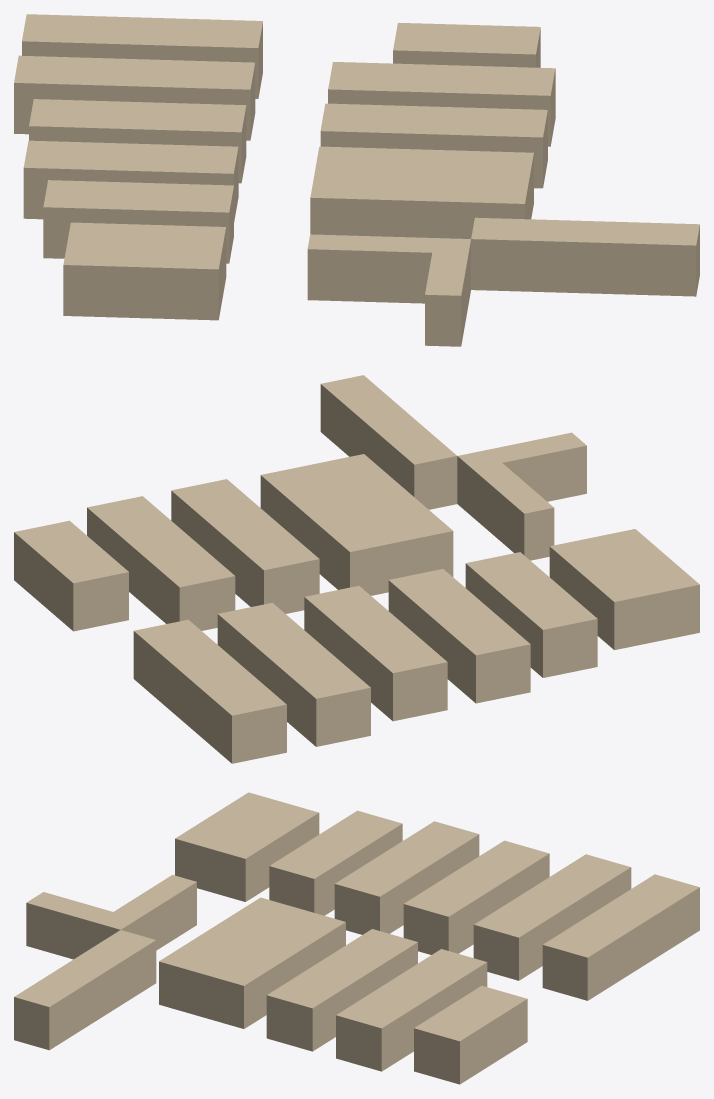
The model's file is -11_9-estimated-coarse.glb.
3 views of the same model, one above another, from view 1: azimuth 30°, elevation 25°; view 2: azimuth 150°, elevation 25°; view 3: azimuth 270°, elevation 25° (orthographic). The views are drawn at different scales.
Size of the model in its own units: 185 by 15 by 216.
